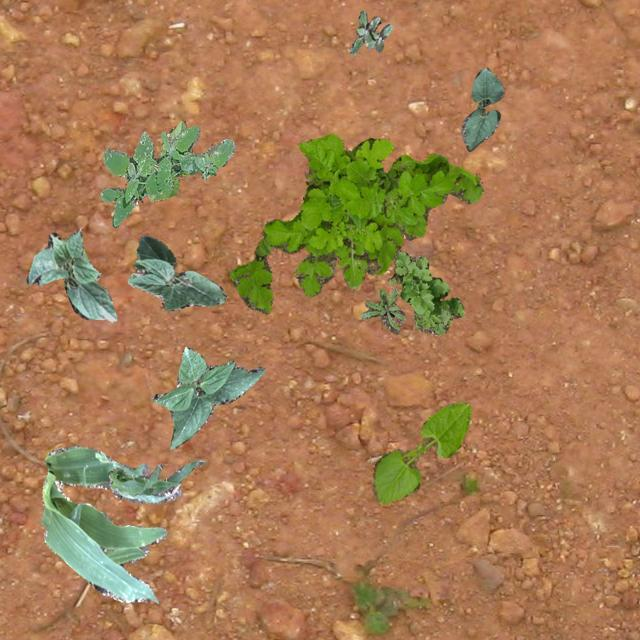crop: (40, 444, 180, 602), (150, 346, 264, 448), (370, 402, 470, 502), (26, 228, 116, 320), (127, 234, 226, 310), (460, 66, 502, 150), (108, 458, 204, 494), (148, 120, 188, 200)
weed: (228, 132, 482, 312), (100, 125, 234, 226), (386, 250, 462, 334), (359, 286, 404, 334), (348, 9, 392, 54)
